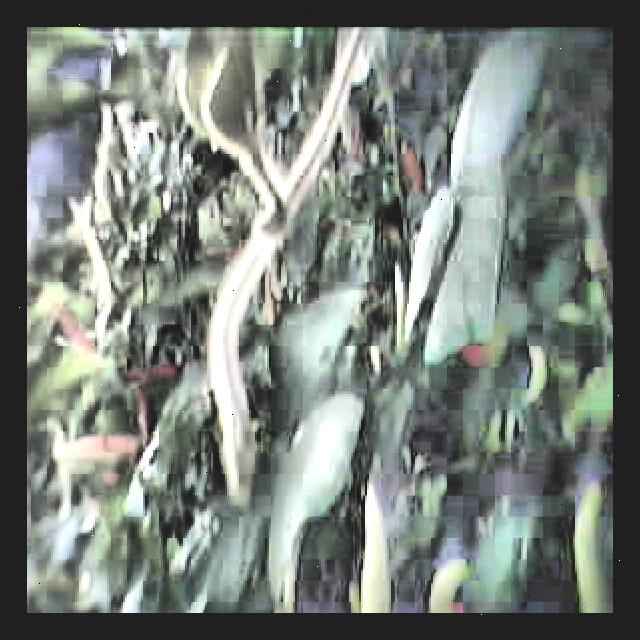Cabai: (52, 433, 151, 463)
